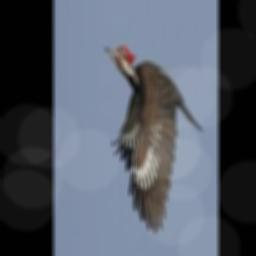Woodpecker: (105, 43, 202, 233)
